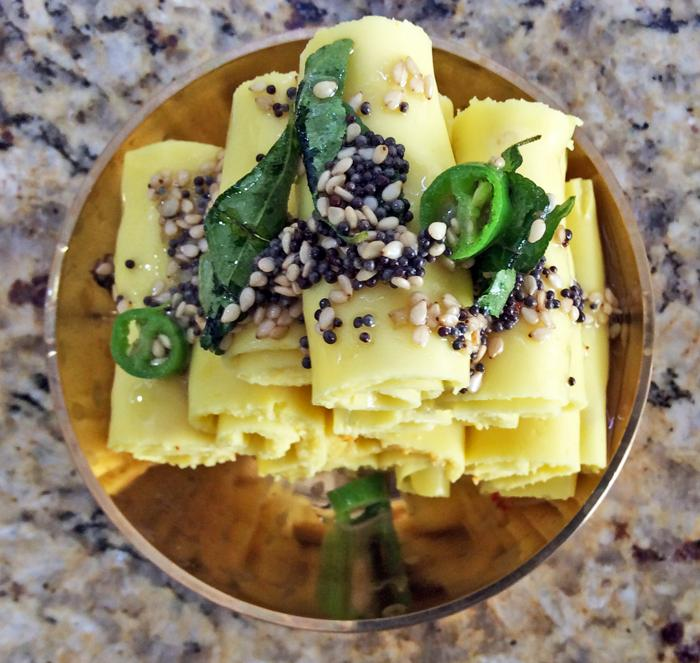khandvi: (155, 115, 597, 485)
